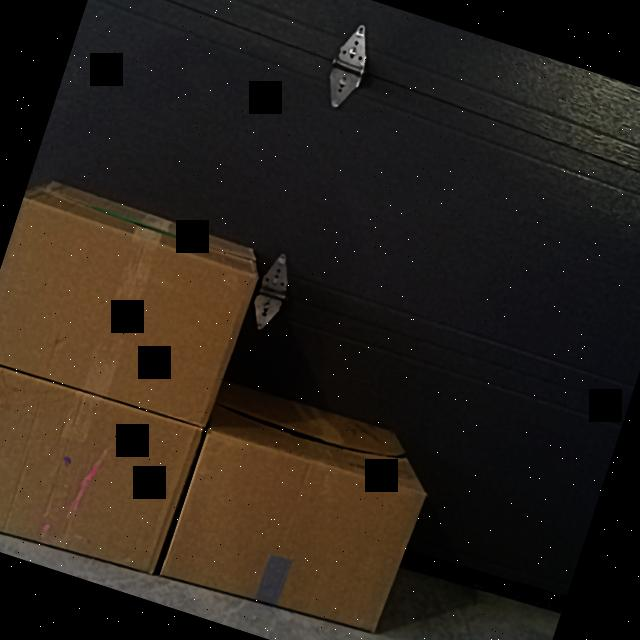box: (0, 201, 256, 430), (162, 423, 422, 638), (0, 357, 200, 579)
